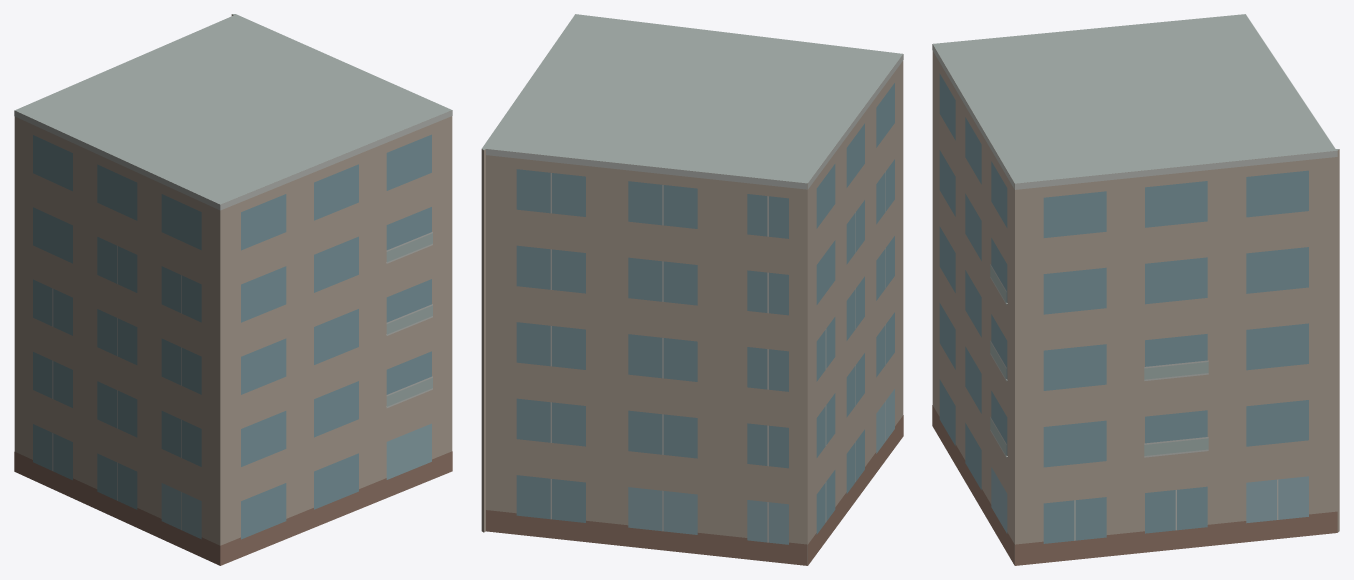
File: survey-upis-32524371.glb
3 renders of one model, left to right at view 1: azimuth 30°, elevation 25°; view 2: azimuth 150°, elevation 25°; view 3: azimuth 270°, elevation 25°, orthographic. The views are drawn at different scales.
Parts seen in each view (by area): view 1: survey-upis-32524371.tmp; view 2: survey-upis-32524371.tmp; view 3: survey-upis-32524371.tmp.
Boxes of the visible parts, x1,y1,x2,y2 form: survey-upis-32524371.tmp: (14, 14, 452, 565); survey-upis-32524371.tmp: (481, 14, 903, 565); survey-upis-32524371.tmp: (932, 14, 1339, 565).
Bounding box in the file's own units: 14.29 × 15 × 14.48.
